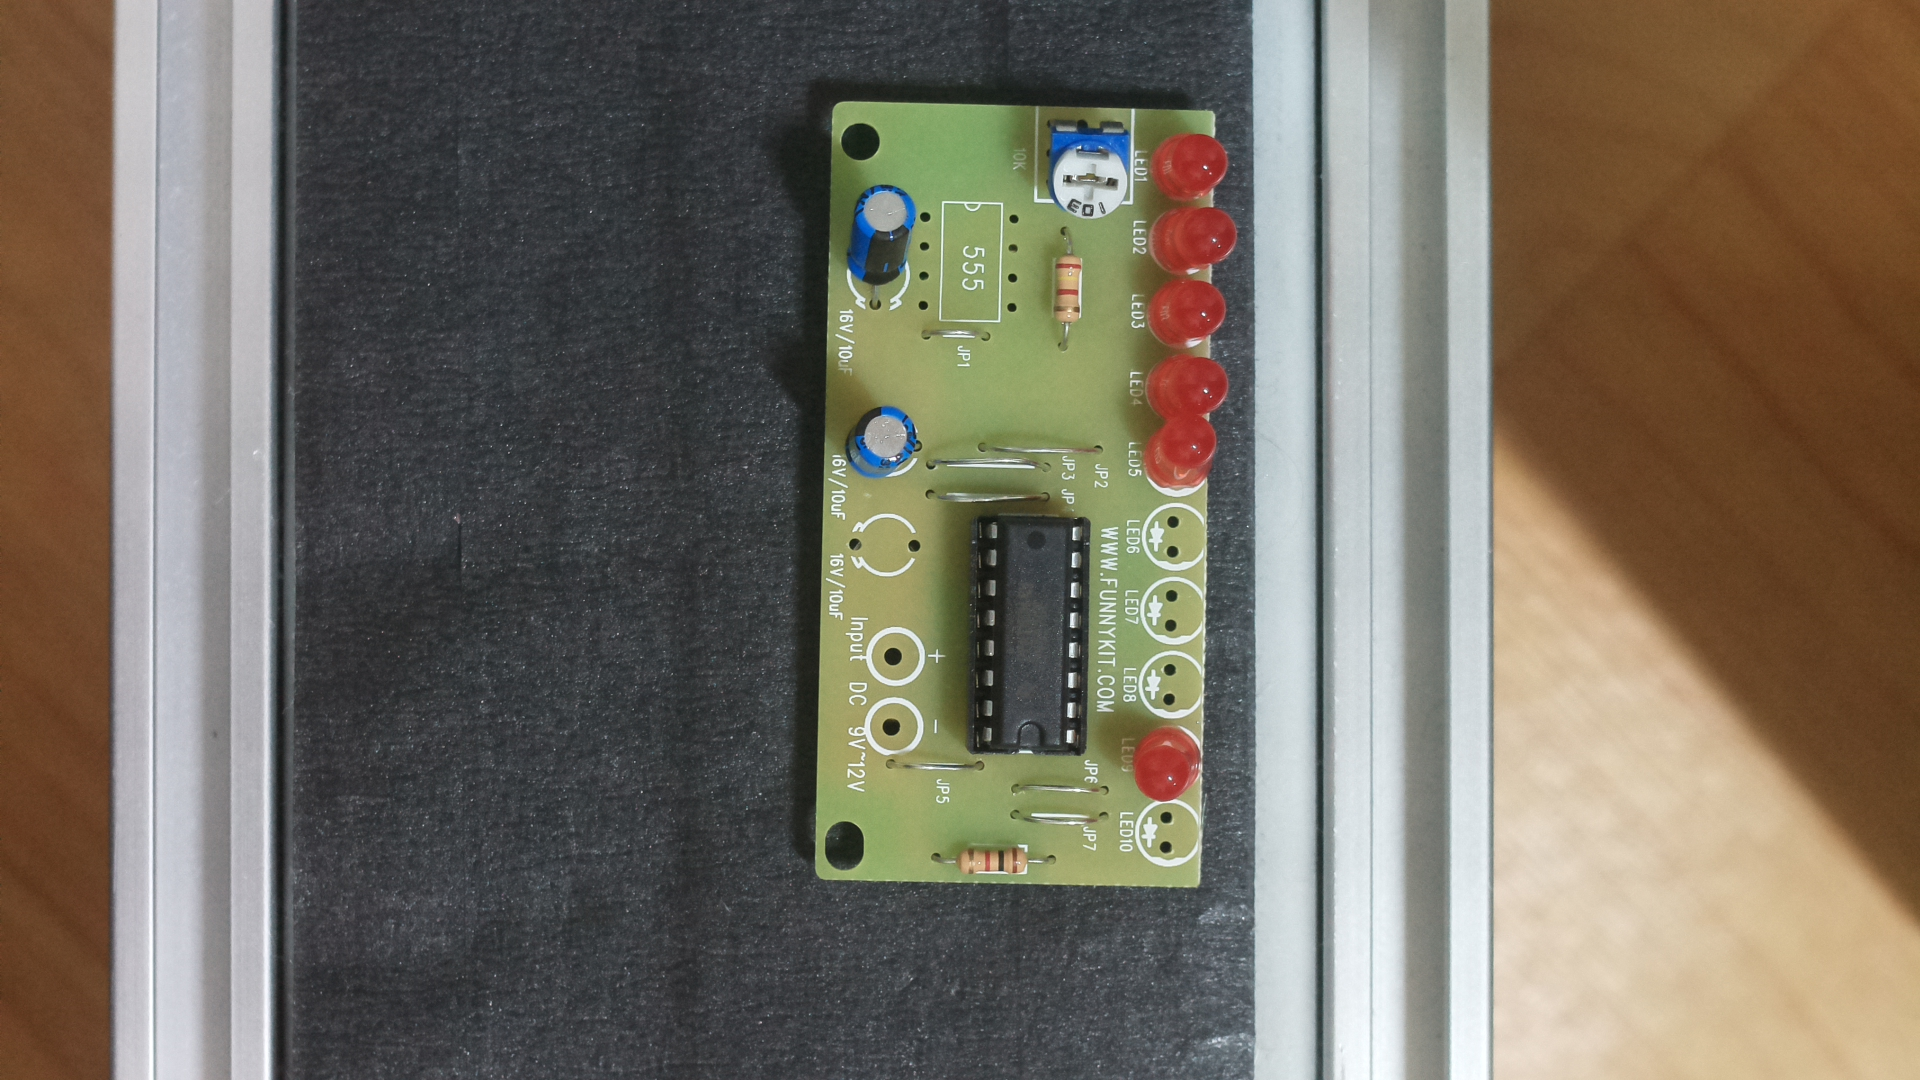B_Missing_part: (806, 78, 1230, 909)
